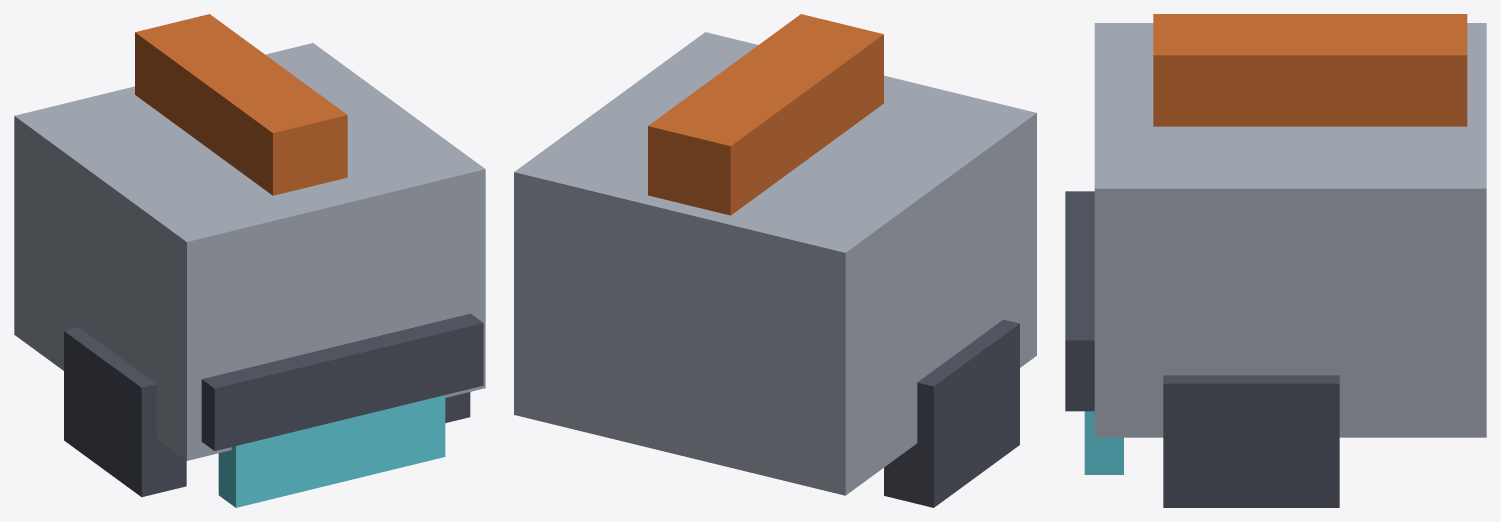
The model's file is SalvagedSteelHelmet.obj.
The picture shows the model from 3 angles, left to right: view 1: azimuth 30°, elevation 25°; view 2: azimuth 150°, elevation 25°; view 3: azimuth 270°, elevation 25°; orthographic projection. The views are drawn at different scales.
Visible parts, largest first — view 1: head; view 2: head; view 3: head.
Boxes of the visible parts, x1,y1,x2,y2 form: head: (14, 14, 485, 507); head: (514, 14, 1036, 507); head: (1065, 14, 1486, 507).
Bounding box in the file's own units: 0.44 × 0.43 × 0.43.
